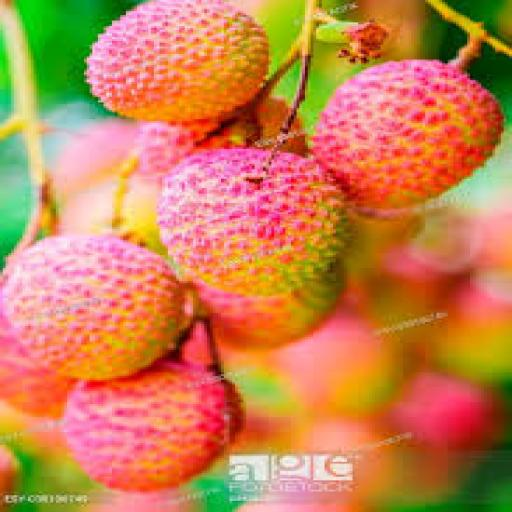lychee: (314, 60, 503, 210), (157, 149, 349, 296), (3, 235, 184, 379), (65, 362, 240, 491), (87, 0, 268, 122), (138, 97, 290, 182), (196, 272, 344, 350), (0, 293, 75, 418), (389, 373, 500, 450), (54, 118, 137, 199), (121, 176, 165, 255), (0, 445, 19, 510)
